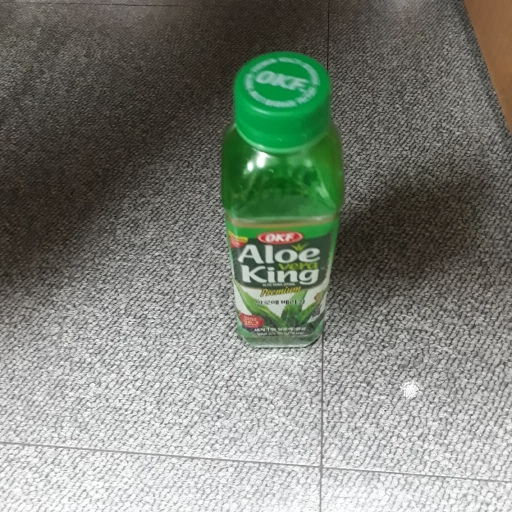Plastic_0: (219, 50, 344, 352)
